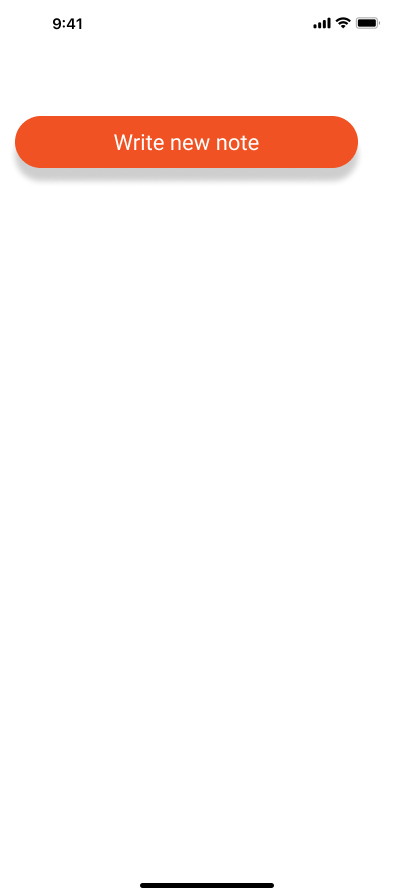Buttons: (8, 116, 365, 188)
Home Indicator: (0, 862, 414, 896)
Status Bar: (0, 0, 414, 44)
